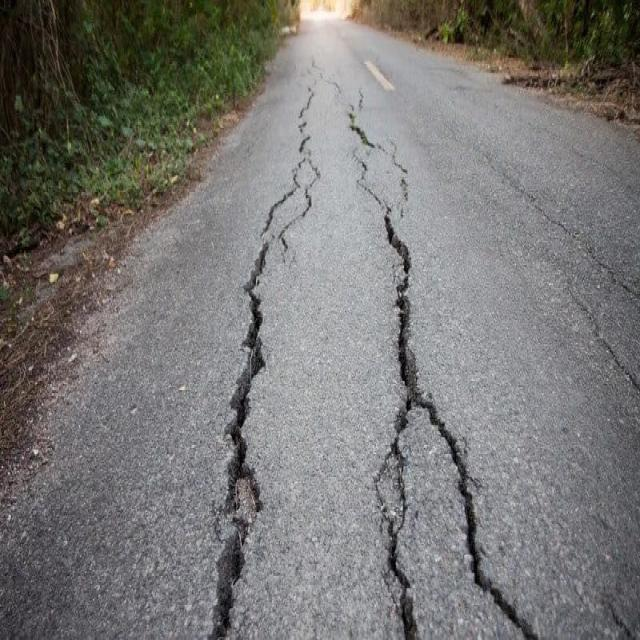GRIETA: (428, 399, 537, 639), (212, 236, 273, 639), (375, 211, 429, 639), (306, 58, 411, 218), (534, 204, 639, 301), (278, 86, 323, 250), (574, 298, 639, 392), (351, 146, 390, 211), (262, 186, 297, 233), (512, 182, 534, 202)
